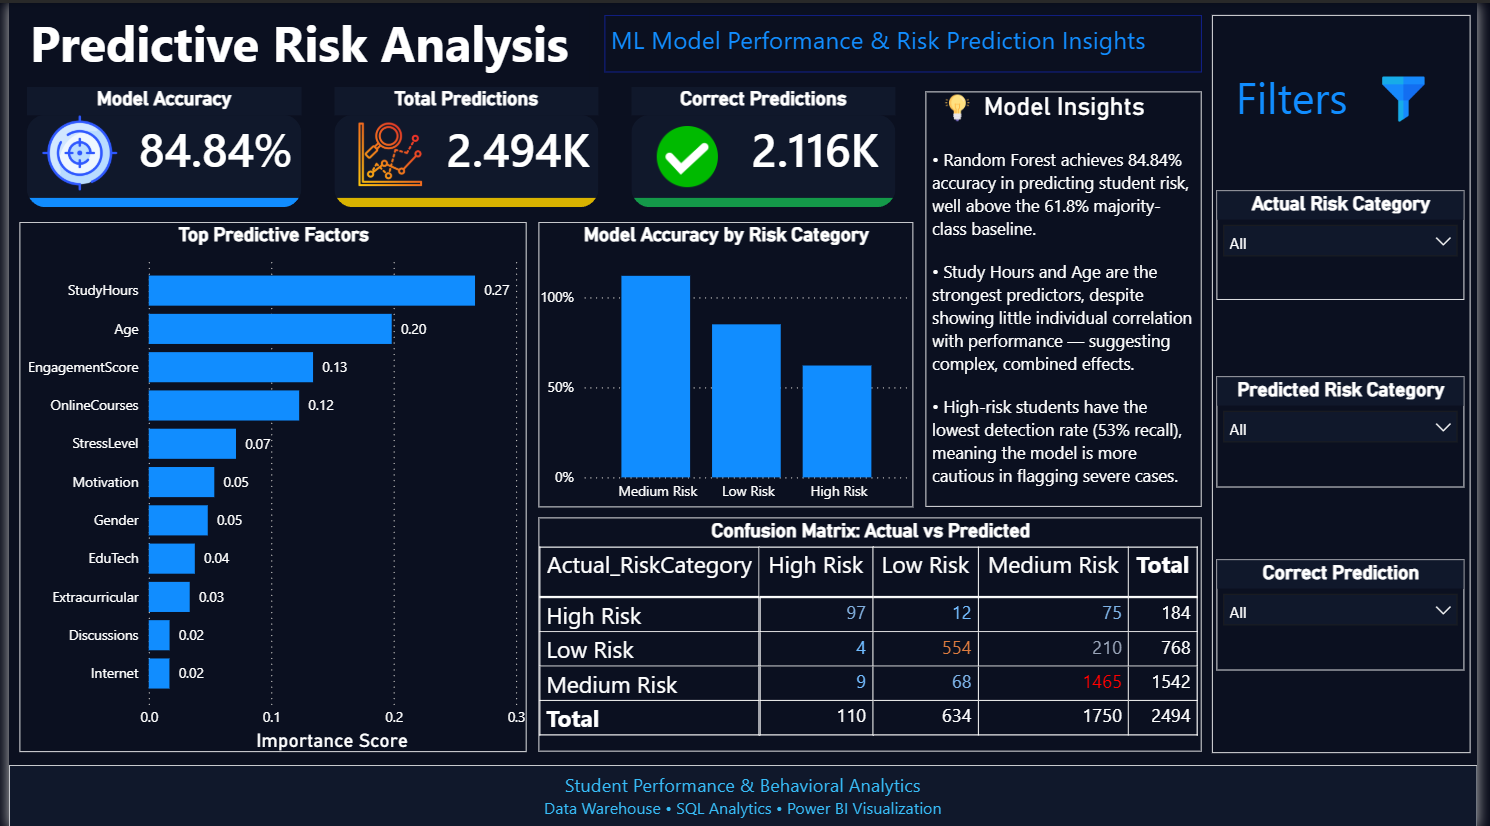

What the dashboard file says about the page in this screenshot:
{"tool":"powerbi","page":{"name":"Predictive Risk Analysis","canvas":[1280,720],"ordinal":4},"visuals":[{"type":"shape","box":[1048.6,10.5,225,643],"z":0},{"type":"clusteredColumnChart","title":"Model Accuracy by Risk Category","fields":{"Category":["Model_Predictions.Actual_RiskCategory"],"Y":["Model_Predictions.Per-Class Accuracy"]},"box":[462.1,190.7,326.4,248.6],"z":1000},{"type":"clusteredBarChart","title":"Top Predictive Factors","fields":{"Category":["Feature_Importance.Feature"],"Y":["Sum(Feature_Importance.Importance)"]},"box":[9.1,190.8,442.1,461.8],"z":2000},{"type":"slicer","title":"Actual Risk Category","fields":{"Values":["Model_Predictions.Actual_RiskCategory"]},"box":[1052.6,163.4,215.7,95.4],"z":3000},{"type":"slicer","title":"Correct Prediction","fields":{"Values":["Model_Predictions.Correct_Prediction"]},"box":[1052.6,485.1,215.7,96.8],"z":4000},{"type":"slicer","title":"Predicted Risk Category","fields":{"Values":["Model_Predictions.Predicted_RiskCategory"]},"box":[1052.6,325.6,215.7,96.8],"z":5000},{"type":"textbox","box":[0,0,506,73.2],"z":6000},{"type":"textbox","box":[519.4,10.6,520.9,50],"z":7000},{"type":"cardVisual","title":"Total Predictions","fields":{"Data":["CountNonNull(Model_Predictions.Actual_RiskCategory)"]},"box":[283.8,73.1,230,104.6],"z":8000},{"type":"cardVisual","title":"Correct Predictions","fields":{"Data":["CountNonNull(Model_Predictions.Actual_RiskCategory)"]},"box":[543.1,73.1,230,104.6],"z":9000},{"type":"image","box":[542.9,107.1,97.1,53.6],"z":10000},{"type":"textbox","box":[1063.8,51.2,216.2,61.2],"z":11000},{"type":"image","box":[1157.2,64.1,116.4,39.2],"z":12000},{"type":"textbox","box":[0,664.2,1280,56],"z":13000},{"type":"cardVisual","title":"Model Accuracy","fields":{"Data":["Avg(Model_Predictions.Correct_Prediction_Numeric)"]},"box":[15.1,72.7,239.2,104.5],"z":14000},{"type":"image","box":[283.8,103.1,96.9,57.5],"z":15000},{"type":"image","box":[15.1,98.4,92.4,65.1],"z":16000},{"type":"textbox","title":"Model Insights","box":[799.3,77.1,240.7,362.1],"z":17000},{"type":"image","box":[793.5,80,66,23],"z":18000},{"type":"pivotTable","title":"Confusion Matrix: Actual vs Predicted","fields":{"Rows":["Model_Predictions.Actual_RiskCategory"],"Columns":["Model_Predictions.Predicted_RiskCategory"],"Values":["CountNonNull(Model_Predictions.Actual_RiskCategory)"]},"box":[462,449,578,204],"z":19000}]}

Visuals, with their boxes in screenshot pixels (x1, y1, x2, y2), scaled from the page's 1280x720 canvas onto the 1490x826 screenshot:
shape: Rect(1221, 12, 1483, 750)
"Model Accuracy by Risk Category" clusteredColumnChart: Rect(538, 219, 918, 504)
"Top Predictive Factors" clusteredBarChart: Rect(11, 219, 525, 749)
"Actual Risk Category" slicer: Rect(1225, 187, 1476, 297)
"Correct Prediction" slicer: Rect(1225, 557, 1476, 668)
"Predicted Risk Category" slicer: Rect(1225, 374, 1476, 485)
textbox: Rect(0, 0, 589, 84)
textbox: Rect(605, 12, 1211, 70)
"Total Predictions" cardVisual: Rect(330, 84, 598, 204)
"Correct Predictions" cardVisual: Rect(632, 84, 900, 204)
image: Rect(632, 123, 745, 184)
textbox: Rect(1238, 59, 1489, 129)
image: Rect(1347, 74, 1483, 119)
textbox: Rect(0, 762, 1489, 825)
"Model Accuracy" cardVisual: Rect(18, 83, 296, 203)
image: Rect(330, 118, 443, 184)
image: Rect(18, 113, 125, 188)
"Model Insights" textbox: Rect(930, 88, 1211, 504)
image: Rect(924, 92, 1001, 118)
"Confusion Matrix: Actual vs Predicted" pivotTable: Rect(538, 515, 1211, 749)
